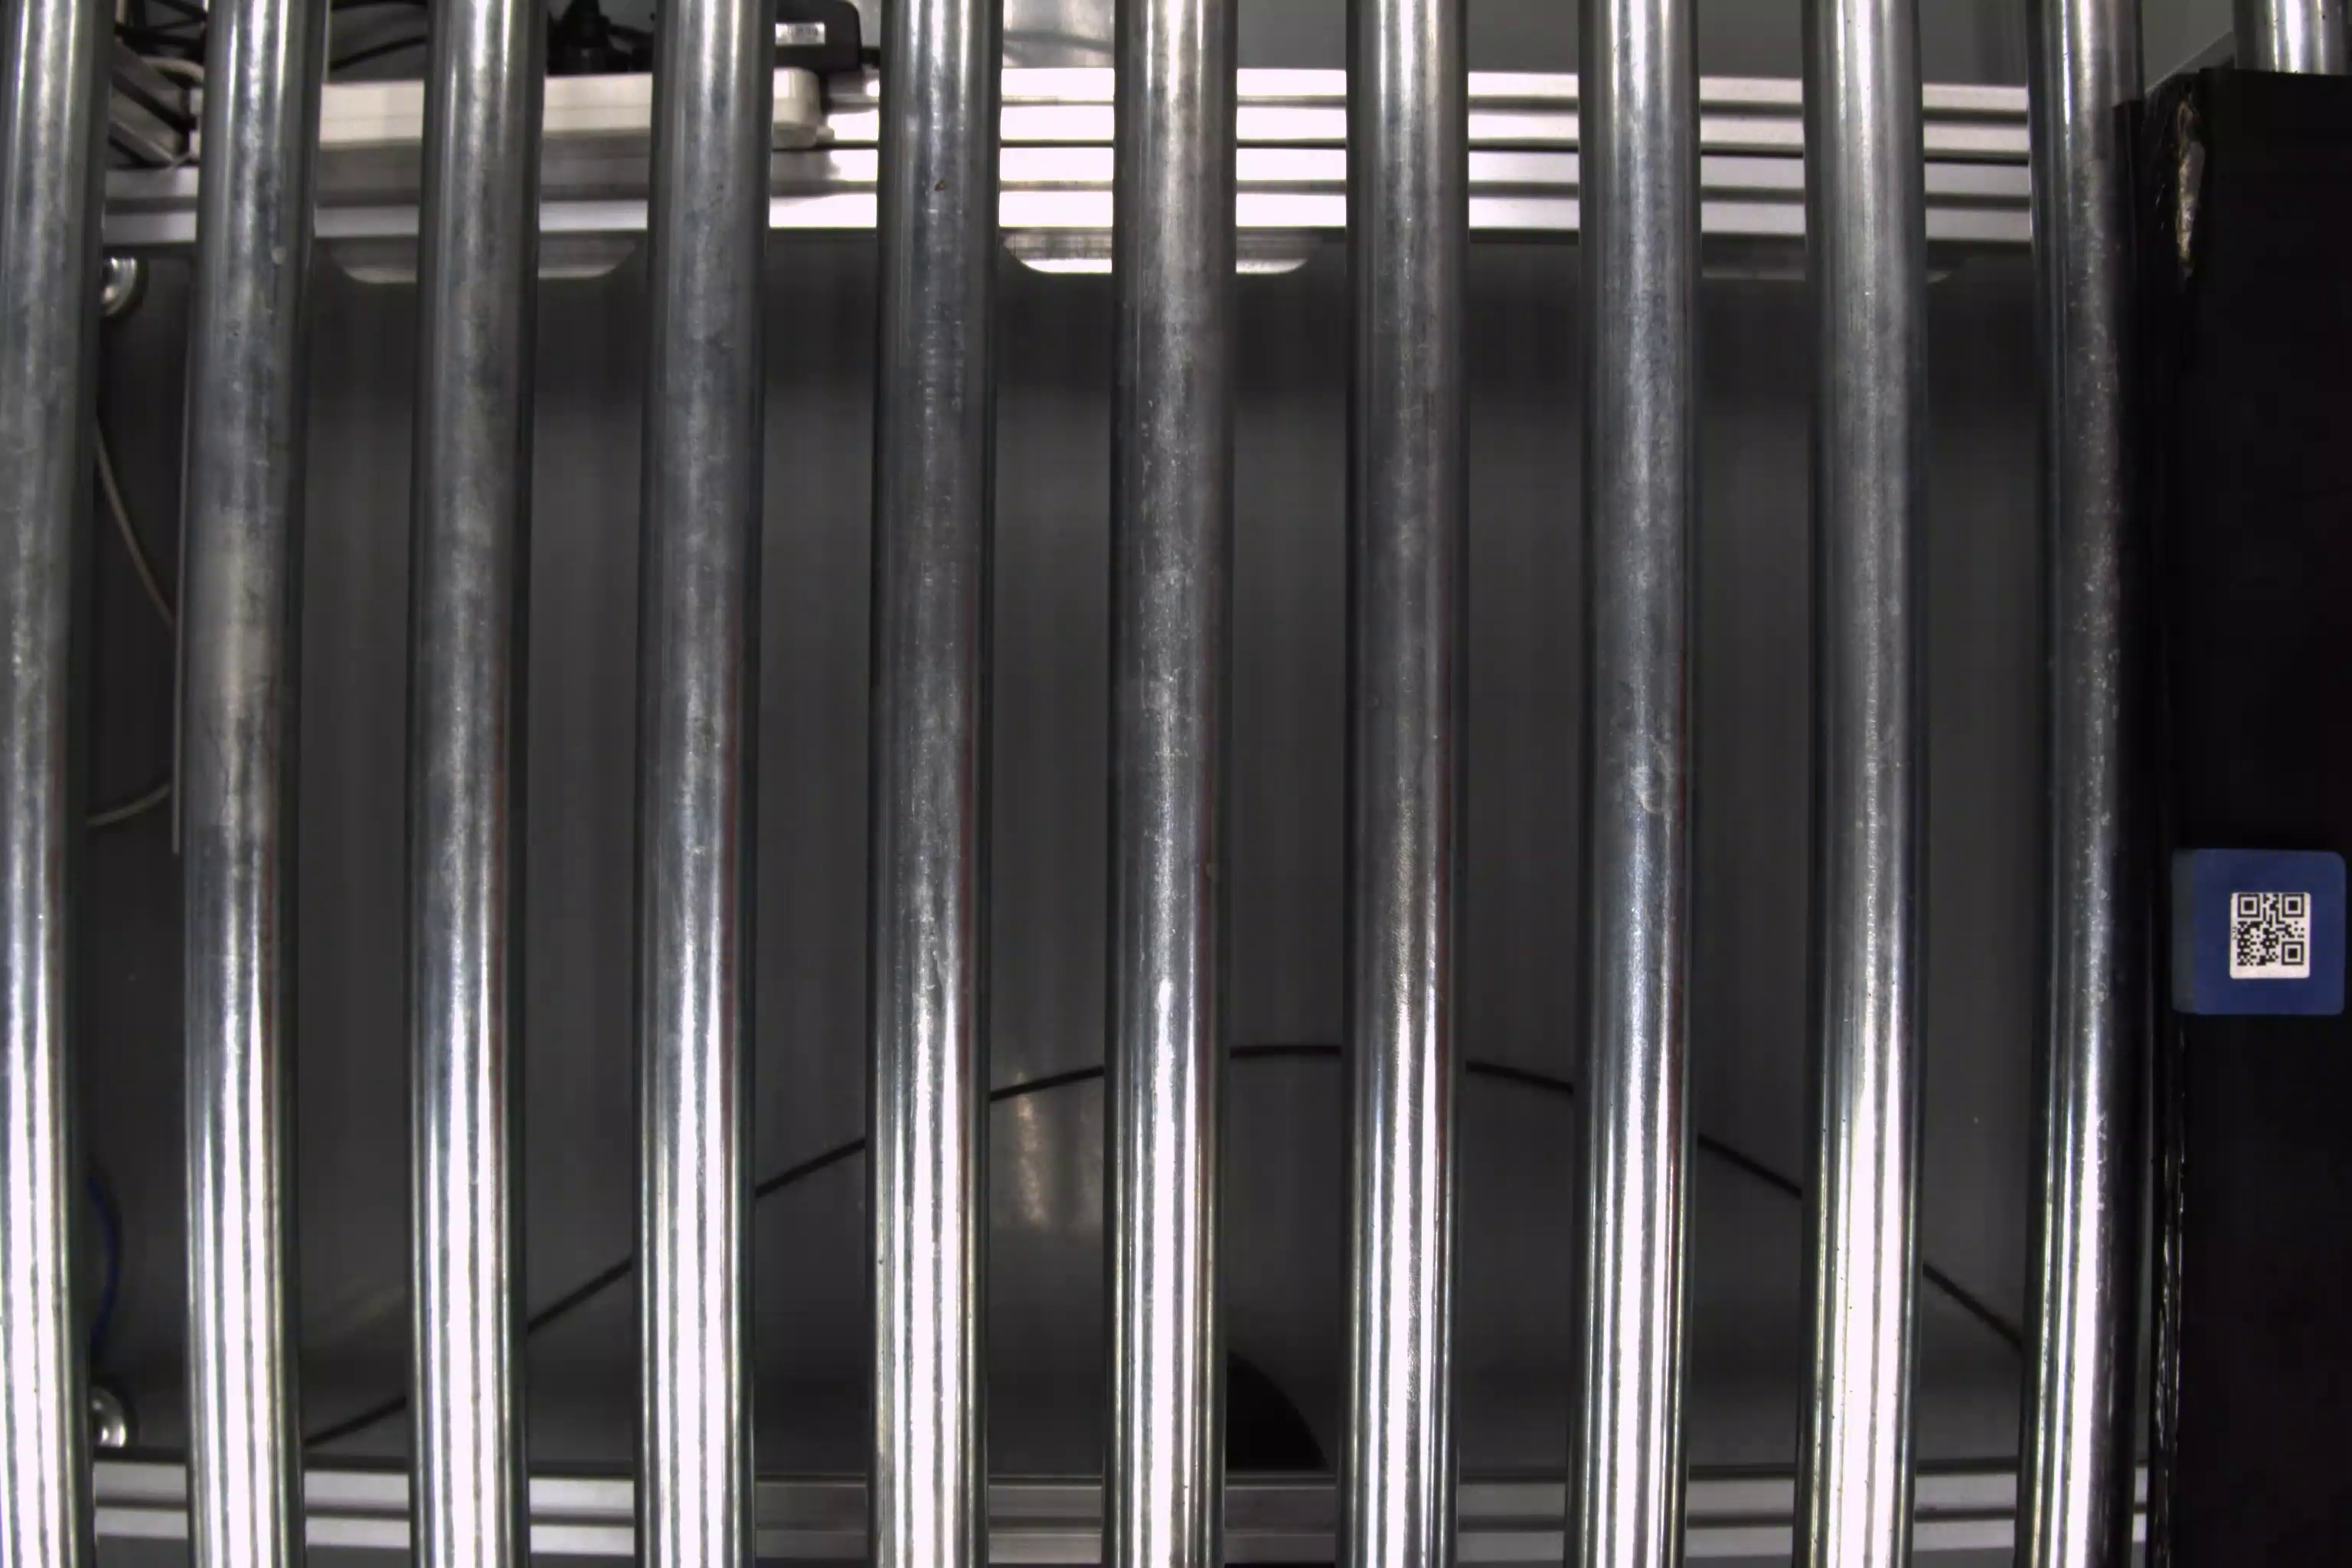wood: (2168, 843, 2345, 1017)
